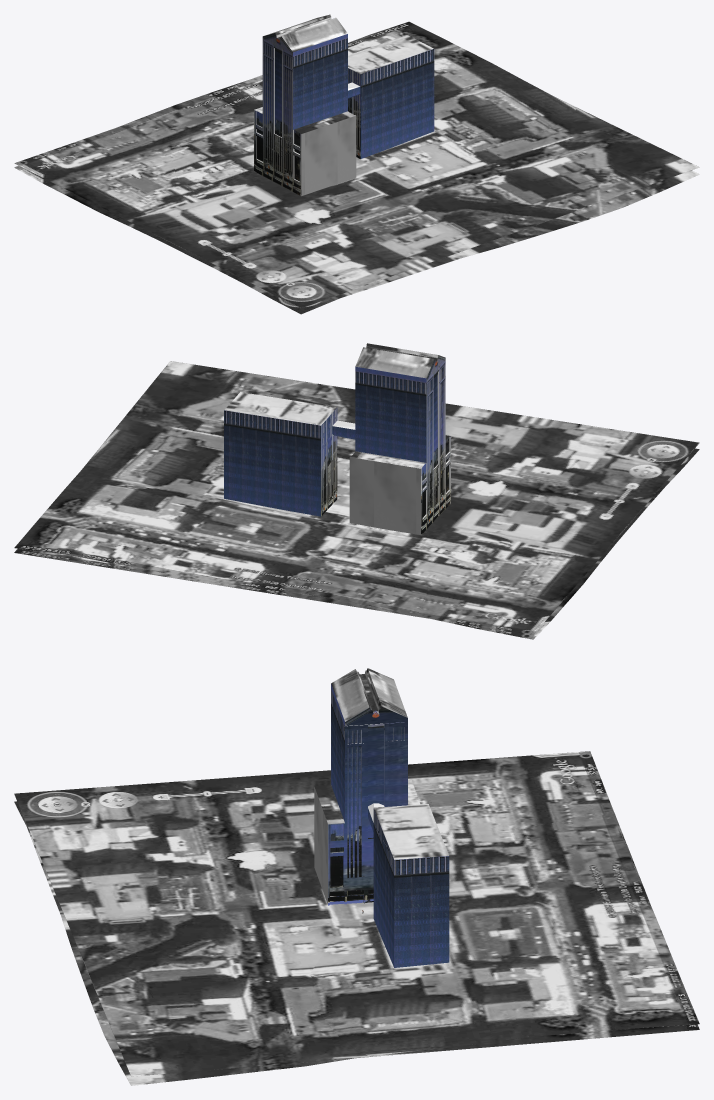
The model's file is Copia_automÃ¡tica_torre+santander.dae.
The picture shows the model from 3 angles, top to bottom: view 1: azimuth 30°, elevation 25°; view 2: azimuth 150°, elevation 25°; view 3: azimuth 270°, elevation 25°; orthographic projection. The views are drawn at different scales.
Parts seen in each view (by area): view 1: node_5f404646_5cd6_4ea1_9b96_b187e5fd99ae_mesh0, node_05ccbf69_2296_4b37_a92b_56ab0152bd96_mesh281, node_05ccbf69_2296_4b37_a92b_56ab0152bd96_mesh6, node_05ccbf69_2296_4b37_a92b_56ab0152bd96_mesh252, node_05ccbf69_2296_4b37_a92b_56ab0152bd96_mesh3, node_05ccbf69_2296_4b37_a92b_56ab0152bd96_mesh278, node_05ccbf69_2296_4b37_a92b_56ab0152bd96_mesh178, node_05ccbf69_2296_4b37_a92b_56ab0152bd96_mesh243, node_b52bd74e_a1dd_42af_b23a_42e56bafb59a_mesh74, node_b52bd74e_a1dd_42af_b23a_42e56bafb59a_mesh105, node_b52bd74e_a1dd_42af_b23a_42e56bafb59a_mesh13, node_b52bd74e_a1dd_42af_b23a_42e56bafb59a_mesh106 (+27 smaller); view 2: node_5f404646_5cd6_4ea1_9b96_b187e5fd99ae_mesh0, node_05ccbf69_2296_4b37_a92b_56ab0152bd96_mesh279, node_05ccbf69_2296_4b37_a92b_56ab0152bd96_mesh5, node_05ccbf69_2296_4b37_a92b_56ab0152bd96_mesh2, node_05ccbf69_2296_4b37_a92b_56ab0152bd96_mesh252, node_05ccbf69_2296_4b37_a92b_56ab0152bd96_mesh278, node_05ccbf69_2296_4b37_a92b_56ab0152bd96_mesh179, node_b52bd74e_a1dd_42af_b23a_42e56bafb59a_mesh4, node_b52bd74e_a1dd_42af_b23a_42e56bafb59a_mesh5, node_b52bd74e_a1dd_42af_b23a_42e56bafb59a_mesh6, node_b52bd74e_a1dd_42af_b23a_42e56bafb59a_mesh26, node_b52bd74e_a1dd_42af_b23a_42e56bafb59a_mesh28 (+64 smaller); view 3: node_5f404646_5cd6_4ea1_9b96_b187e5fd99ae_mesh0, node_05ccbf69_2296_4b37_a92b_56ab0152bd96_mesh280, node_05ccbf69_2296_4b37_a92b_56ab0152bd96_mesh325, node_05ccbf69_2296_4b37_a92b_56ab0152bd96_mesh278, node_05ccbf69_2296_4b37_a92b_56ab0152bd96_mesh281, node_05ccbf69_2296_4b37_a92b_56ab0152bd96_mesh6, node_05ccbf69_2296_4b37_a92b_56ab0152bd96_mesh8, node_05ccbf69_2296_4b37_a92b_56ab0152bd96_mesh178, node_05ccbf69_2296_4b37_a92b_56ab0152bd96_mesh3, node_b52bd74e_a1dd_42af_b23a_42e56bafb59a_mesh80, node_b52bd74e_a1dd_42af_b23a_42e56bafb59a_mesh61, node_b52bd74e_a1dd_42af_b23a_42e56bafb59a_mesh60 (+66 smaller).
Part boxes in pixels (left/top/right/bottom): node_5f404646_5cd6_4ea1_9b96_b187e5fd99ae_mesh0: left=14, top=97, right=699, bottom=308; node_05ccbf69_2296_4b37_a92b_56ab0152bd96_mesh281: left=360, top=49, right=434, bottom=158; node_05ccbf69_2296_4b37_a92b_56ab0152bd96_mesh6: left=293, top=34, right=347, bottom=129; node_05ccbf69_2296_4b37_a92b_56ab0152bd96_mesh252: left=254, top=33, right=301, bottom=189; node_05ccbf69_2296_4b37_a92b_56ab0152bd96_mesh3: left=301, top=116, right=356, bottom=195; node_05ccbf69_2296_4b37_a92b_56ab0152bd96_mesh278: left=348, top=35, right=433, bottom=74; node_05ccbf69_2296_4b37_a92b_56ab0152bd96_mesh178: left=281, top=17, right=347, bottom=52; node_05ccbf69_2296_4b37_a92b_56ab0152bd96_mesh243: left=274, top=48, right=281, bottom=137; node_b52bd74e_a1dd_42af_b23a_42e56bafb59a_mesh74: left=182, top=163, right=248, bottom=178; node_b52bd74e_a1dd_42af_b23a_42e56bafb59a_mesh105: left=434, top=135, right=500, bottom=150; node_b52bd74e_a1dd_42af_b23a_42e56bafb59a_mesh13: left=137, top=119, right=202, bottom=134; node_b52bd74e_a1dd_42af_b23a_42e56bafb59a_mesh106: left=395, top=135, right=461, bottom=151; node_5f404646_5cd6_4ea1_9b96_b187e5fd99ae_mesh0: left=14, top=361, right=699, bottom=634; node_05ccbf69_2296_4b37_a92b_56ab0152bd96_mesh279: left=224, top=410, right=320, bottom=516; node_05ccbf69_2296_4b37_a92b_56ab0152bd96_mesh5: left=355, top=366, right=426, bottom=462; node_05ccbf69_2296_4b37_a92b_56ab0152bd96_mesh2: left=349, top=457, right=420, bottom=534; node_05ccbf69_2296_4b37_a92b_56ab0152bd96_mesh252: left=421, top=355, right=450, bottom=528; node_05ccbf69_2296_4b37_a92b_56ab0152bd96_mesh278: left=224, top=392, right=336, bottom=425; node_05ccbf69_2296_4b37_a92b_56ab0152bd96_mesh179: left=355, top=347, right=434, bottom=378; node_b52bd74e_a1dd_42af_b23a_42e56bafb59a_mesh4: left=117, top=544, right=167, bottom=573; node_b52bd74e_a1dd_42af_b23a_42e56bafb59a_mesh5: left=134, top=544, right=183, bottom=573; node_b52bd74e_a1dd_42af_b23a_42e56bafb59a_mesh6: left=168, top=554, right=218, bottom=582; node_b52bd74e_a1dd_42af_b23a_42e56bafb59a_mesh26: left=185, top=534, right=234, bottom=562; node_b52bd74e_a1dd_42af_b23a_42e56bafb59a_mesh28: left=236, top=543, right=286, bottom=571; node_5f404646_5cd6_4ea1_9b96_b187e5fd99ae_mesh0: left=14, top=751, right=699, bottom=1076; node_05ccbf69_2296_4b37_a92b_56ab0152bd96_mesh280: left=394, top=856, right=449, bottom=967; node_05ccbf69_2296_4b37_a92b_56ab0152bd96_mesh325: left=328, top=722, right=407, bottom=897; node_05ccbf69_2296_4b37_a92b_56ab0152bd96_mesh278: left=374, top=804, right=448, bottom=859; node_05ccbf69_2296_4b37_a92b_56ab0152bd96_mesh281: left=373, top=808, right=394, bottom=967; node_05ccbf69_2296_4b37_a92b_56ab0152bd96_mesh6: left=331, top=684, right=344, bottom=822; node_05ccbf69_2296_4b37_a92b_56ab0152bd96_mesh8: left=368, top=727, right=383, bottom=837; node_05ccbf69_2296_4b37_a92b_56ab0152bd96_mesh178: left=331, top=669, right=369, bottom=721; node_05ccbf69_2296_4b37_a92b_56ab0152bd96_mesh3: left=314, top=787, right=327, bottom=904; node_b52bd74e_a1dd_42af_b23a_42e56bafb59a_mesh80: left=420, top=1014, right=475, bottom=1050; node_b52bd74e_a1dd_42af_b23a_42e56bafb59a_mesh61: left=464, top=1006, right=518, bottom=1043; node_b52bd74e_a1dd_42af_b23a_42e56bafb59a_mesh60: left=476, top=1007, right=530, bottom=1043.
Bounding box in the file's own units: 309207 × 275322 × 93331.
Materials: 19 (10 with a texture image).
